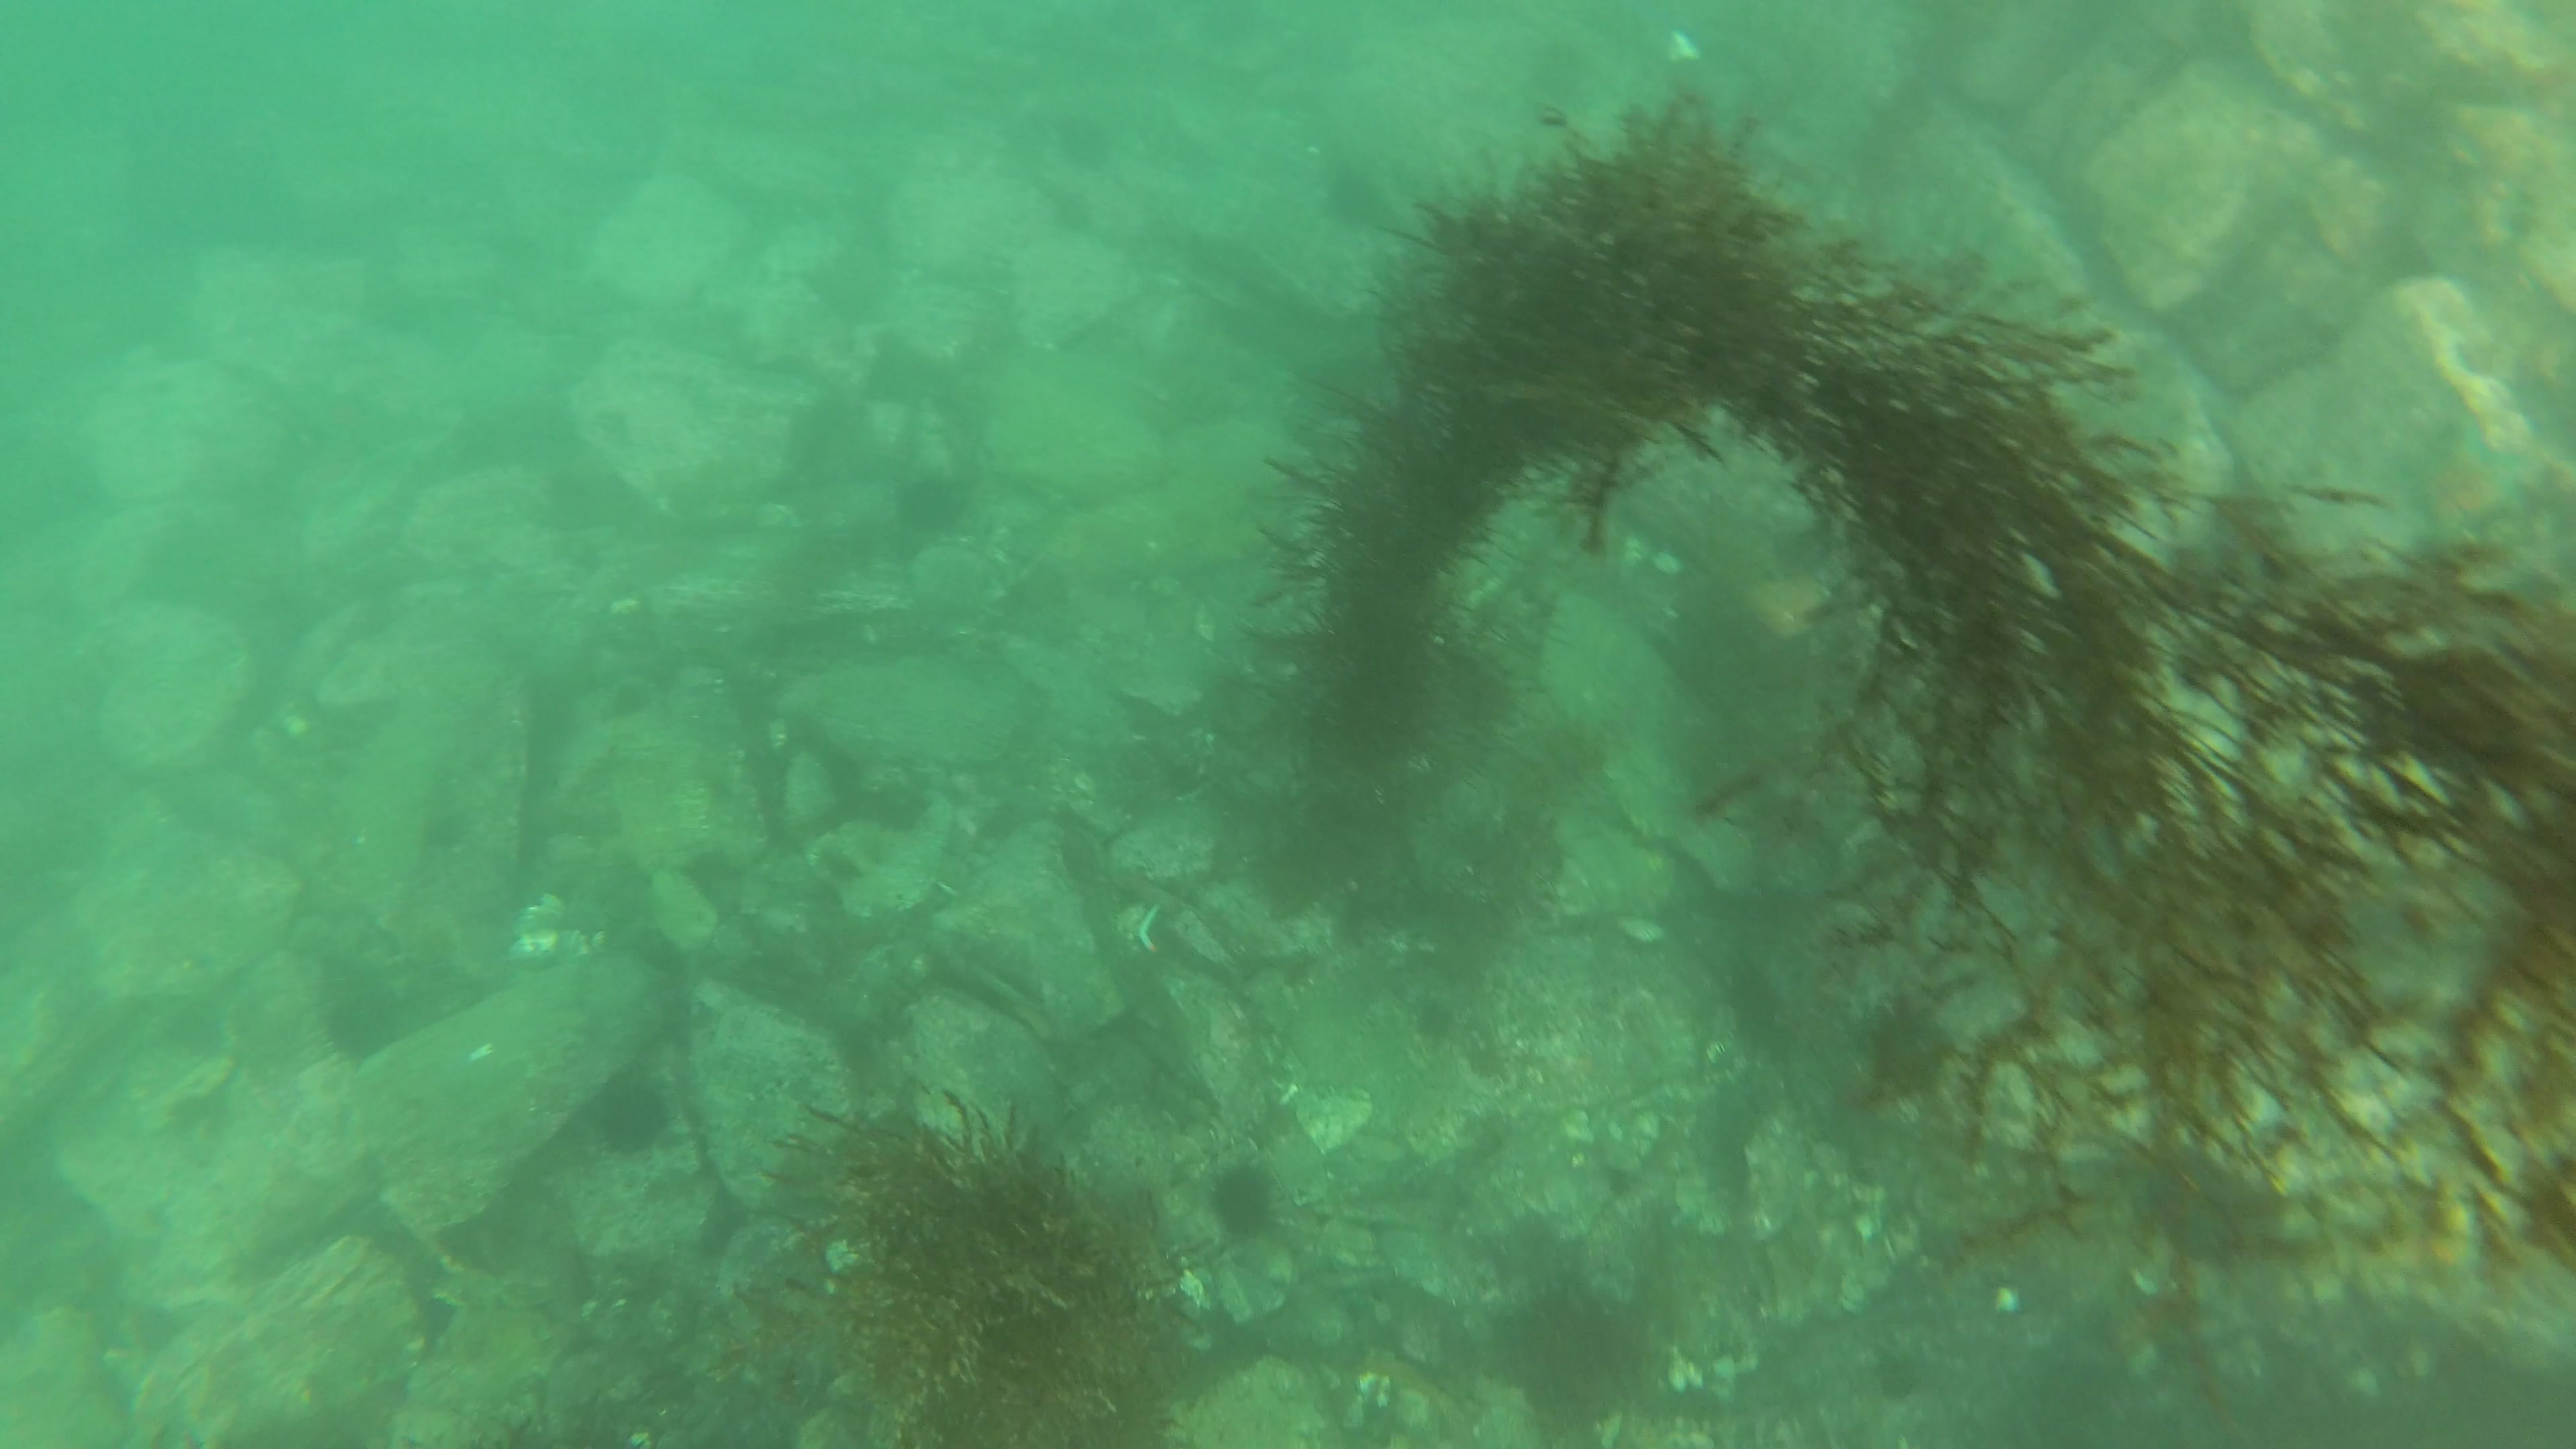echinus: (586, 1076, 678, 1157), (1208, 1157, 1274, 1244), (888, 471, 962, 538)
starfish: (2401, 419, 2519, 550)
